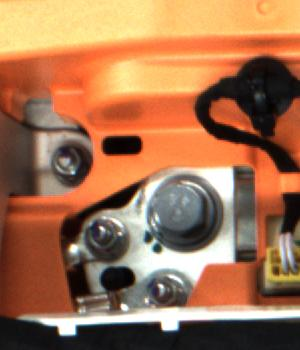nut_b: (149, 171, 230, 251)
screw_s: (42, 139, 86, 180), (141, 273, 183, 309), (82, 213, 122, 250)
